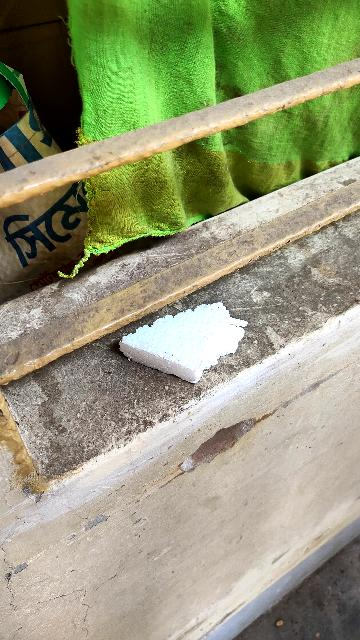cocksheet: (119, 299, 257, 396)
